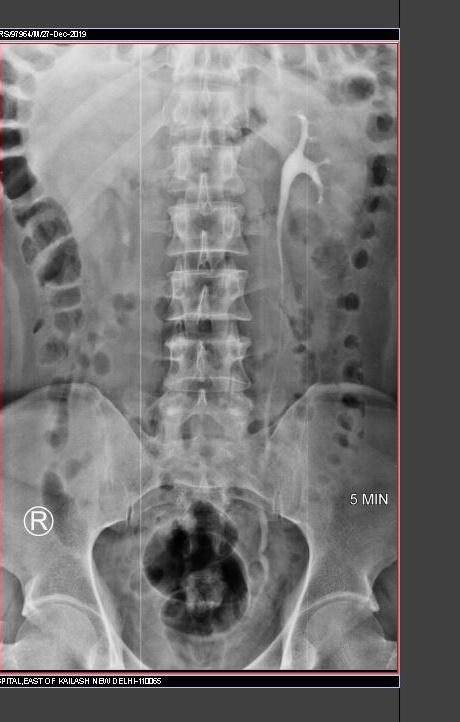bladder: (115, 566, 276, 669)
left kidney: (256, 78, 374, 257)
vertebrae: (165, 140, 249, 197)
